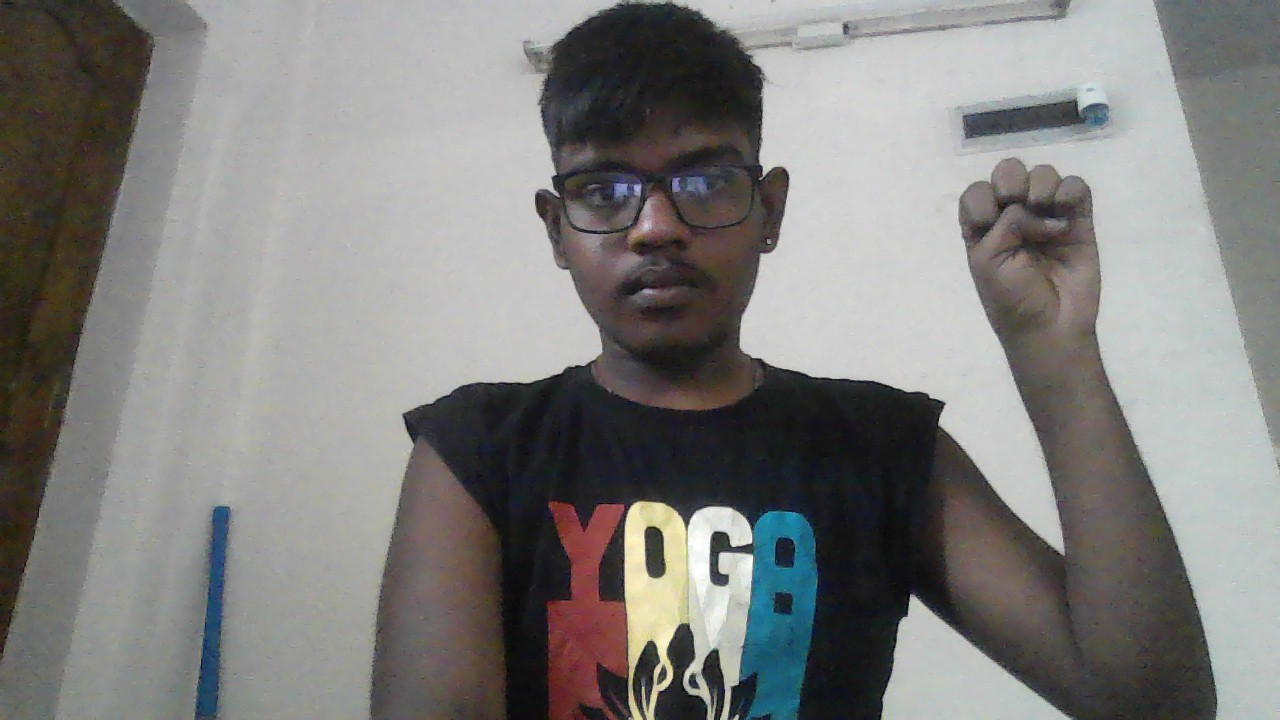E: (959, 157, 1104, 336)
